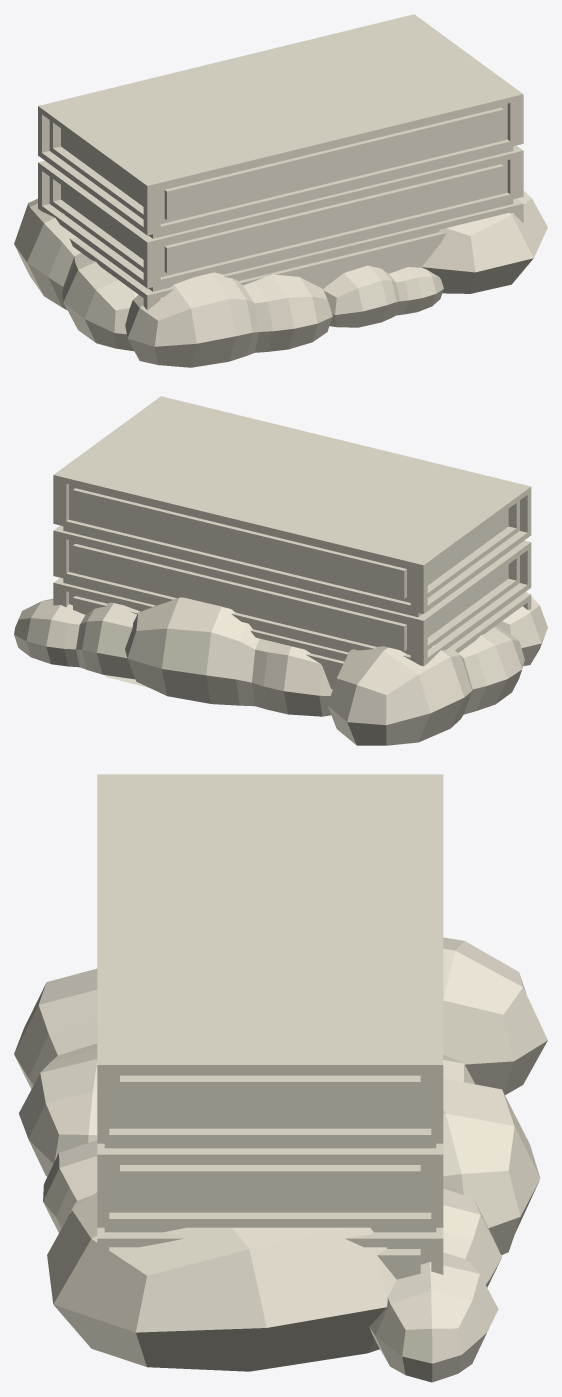
File: MesaAbajo.fbx
The picture shows the model from 3 angles, top to bottom: view 1: azimuth 30°, elevation 25°; view 2: azimuth 150°, elevation 25°; view 3: azimuth 270°, elevation 25°; orthographic projection. The views are drawn at different scales.
Visible parts, largest first — view 1: Nube.006; view 2: Nube.006; view 3: Nube.006.
Boxes of the visible parts, x1,y1,x2,y2 form: Nube.006: (14,14,547,367); Nube.006: (14,396,547,745); Nube.006: (14,774,547,1382).
Size of the model in its own units: 4282 by 1848 by 2788.
